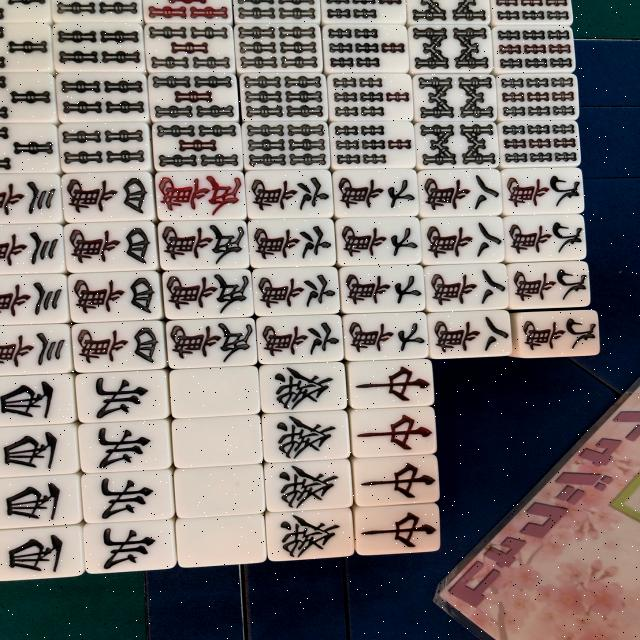bamboos_4: (56, 121, 153, 173), (54, 72, 150, 122), (52, 22, 147, 72)
bamboos_5: (149, 121, 244, 171), (143, 23, 236, 73), (148, 72, 240, 122)
bamboos_6: (241, 121, 331, 170), (233, 23, 323, 72), (238, 73, 327, 121)
bamboos_7: (321, 24, 412, 75), (324, 72, 413, 122), (329, 120, 415, 170)
bamboos_8: (408, 24, 494, 76), (410, 73, 499, 123), (414, 120, 499, 170)
bamboos_9: (494, 73, 578, 121), (496, 120, 578, 168), (492, 26, 576, 72)
characters_4: (71, 320, 169, 374), (63, 220, 162, 272), (68, 271, 165, 324), (62, 172, 157, 224)
characters_5: (154, 220, 250, 271), (160, 269, 254, 321), (154, 170, 247, 222), (165, 317, 258, 368)
characters_6: (247, 218, 338, 270), (249, 267, 341, 318), (246, 169, 334, 220), (256, 315, 344, 365)
characters_7: (334, 217, 422, 266), (342, 311, 428, 361), (339, 265, 426, 314), (332, 168, 417, 218)
characters_8: (425, 262, 511, 312), (420, 216, 504, 266), (427, 311, 513, 359), (419, 168, 503, 217)
characters_9: (504, 215, 587, 264), (513, 310, 598, 357), (506, 263, 590, 310), (502, 168, 584, 216)
green: (266, 506, 356, 562), (259, 411, 353, 463), (264, 459, 352, 513), (258, 362, 347, 412)
north: (74, 419, 174, 474), (71, 370, 171, 424), (83, 517, 175, 575), (80, 468, 174, 524)
red: (351, 503, 440, 556), (348, 407, 438, 459), (345, 359, 435, 409), (352, 454, 438, 506)
white: (173, 464, 267, 519), (170, 414, 262, 470), (175, 514, 266, 568), (168, 366, 259, 418)
